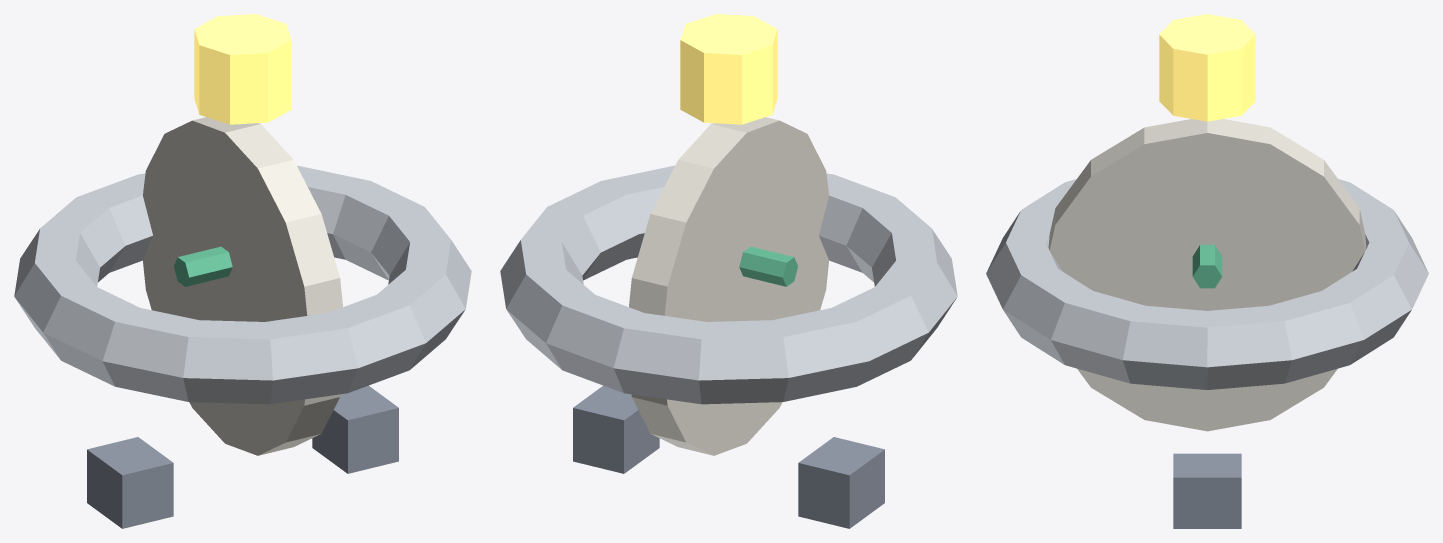
The model's file is clock.glb.
3 views of the same model, side by side, from view 1: azimuth 30°, elevation 25°; view 2: azimuth 150°, elevation 25°; view 3: azimuth 270°, elevation 25° (orthographic). The views are drawn at different scales.
Parts seen in each view (by area): view 1: PangClockRim; view 2: PangClockRim; view 3: PangClockRim.
Boxes of the visible parts, x1,y1,x2,y2 form: PangClockRim: (14, 14, 471, 528); PangClockRim: (500, 14, 957, 528); PangClockRim: (986, 14, 1428, 528).
Size of the model in its own units: 0.78 by 0.835 by 0.78.
